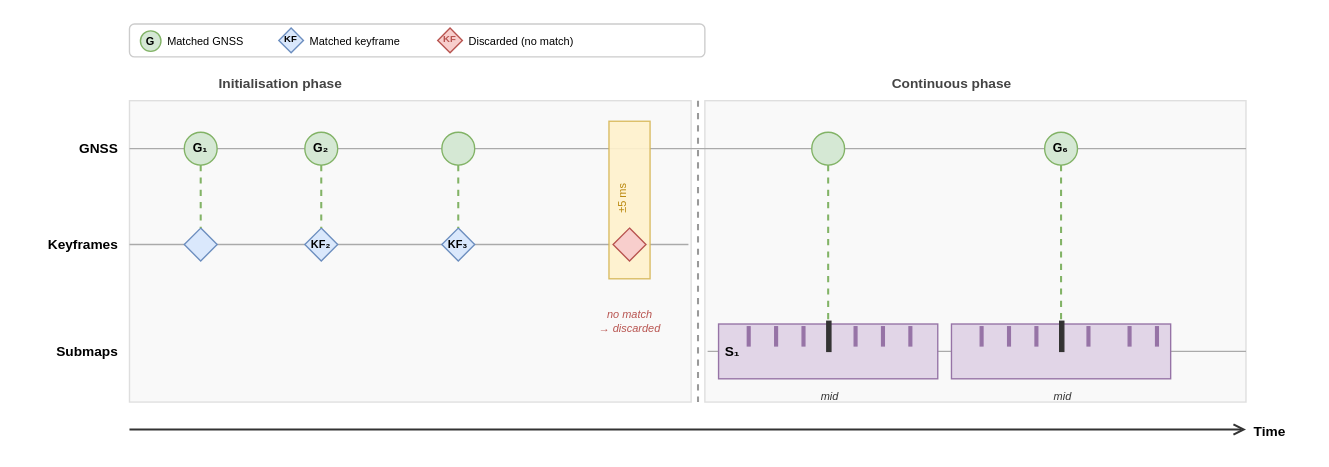
This 1329x467 diagram has some shape labels left out. Each missing label, with the box of its shape:
G₃: (440, 131, 475, 165)
G₅: (810, 131, 845, 165)
KF₁: (183, 227, 217, 261)
KF₄: (612, 227, 646, 261)
S₂: (950, 323, 1171, 379)
